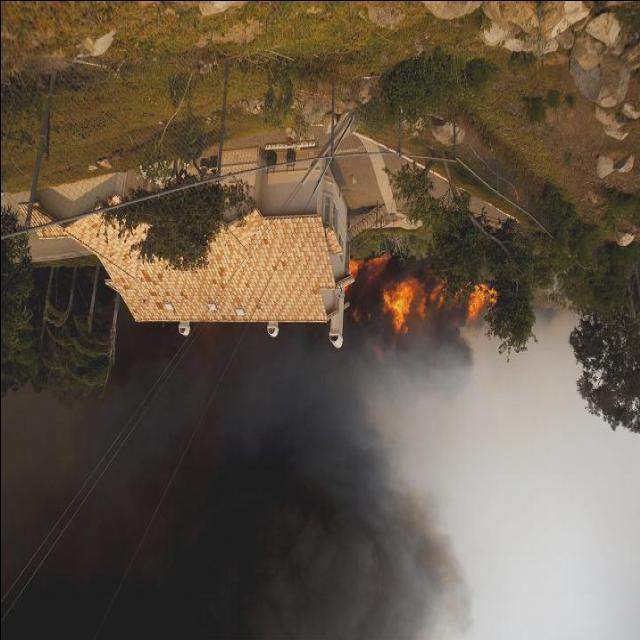Fire: (378, 252, 500, 342)
